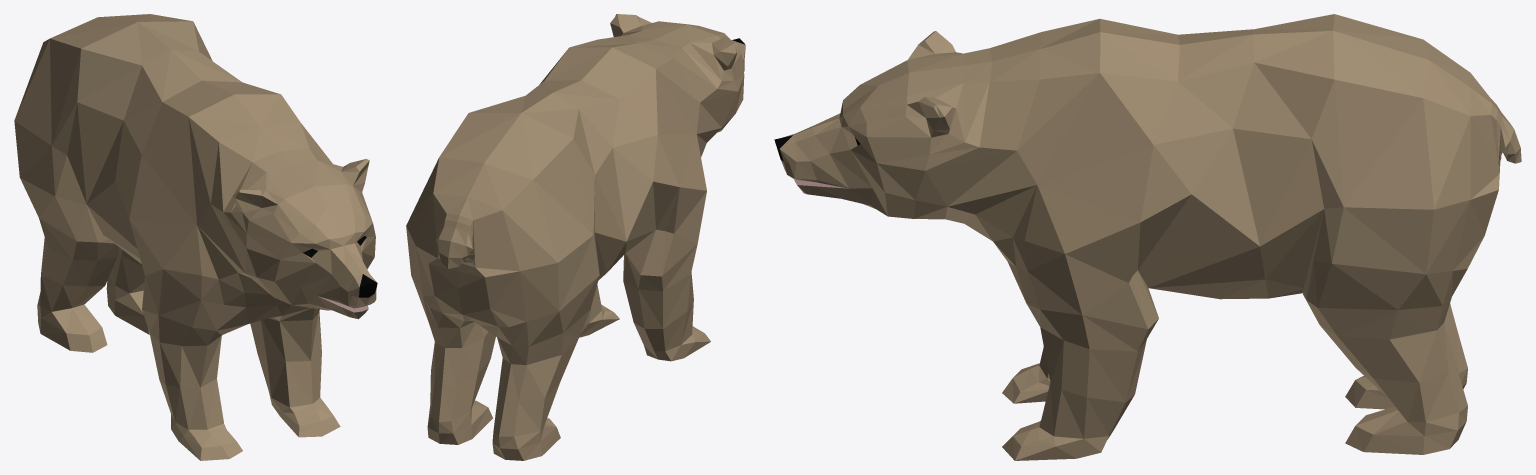
The model's file is quadruped_bear.gltf.
The picture shows the model from 3 angles, left to right: view 1: azimuth 30°, elevation 25°; view 2: azimuth 150°, elevation 25°; view 3: azimuth 270°, elevation 25°; orthographic projection. The views are drawn at different scales.
Parts seen in each view (by area): view 1: bear_brown_colorMap; view 2: bear_brown_colorMap; view 3: bear_brown_colorMap.
Boxes of the visible parts, x1=… form: bear_brown_colorMap: x1=14, y1=14, x2=377, y2=460; bear_brown_colorMap: x1=406, y1=14, x2=745, y2=460; bear_brown_colorMap: x1=774, y1=14, x2=1521, y2=460.
Bounding box in the file's own units: 81.4 × 142 × 247.
